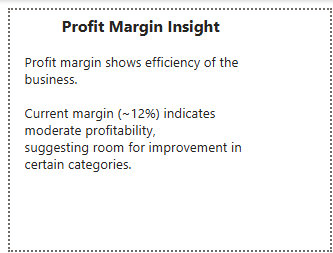

What the dashboard file says about the page in this screenshot:
{"tool":"powerbi","page":{"name":"Tooltip","canvas":[320,240],"ordinal":1},"visuals":[{"type":"textbox","box":[10,0,242,172],"z":0}]}

Visuals, with their boxes in screenshot pixels (x1, y1, x2, y2), scaled from the page's 320x240 canvas onto the 333x253 screenshot:
textbox: (10,0,262,181)
